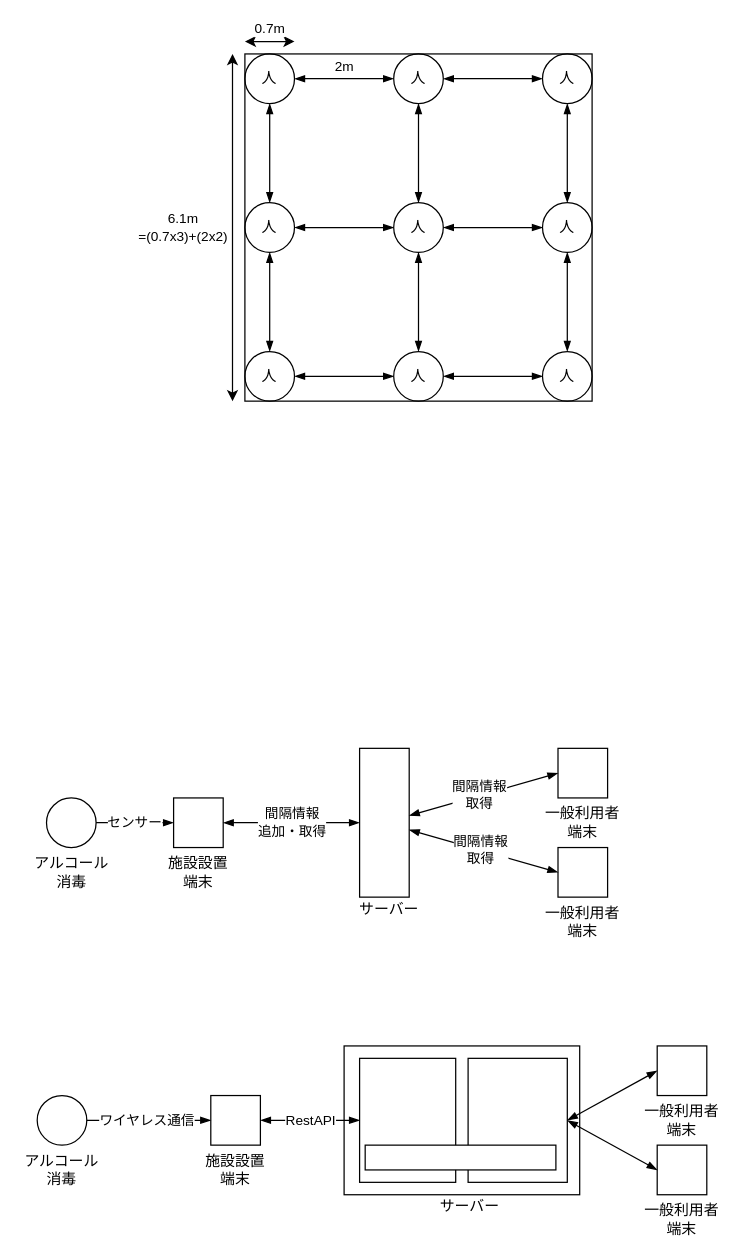
The diagram is 743 pixels wide and 1259 high, and some of its shapes have lost their labels. The shapes that lost their labels are listed below. From the top down, each one's centre as x and y in pixels, then its label:
At [407,1119]: "APIサーバー".
At [517,1119]: "webサーバー".
At [460,1157]: "データベース".
